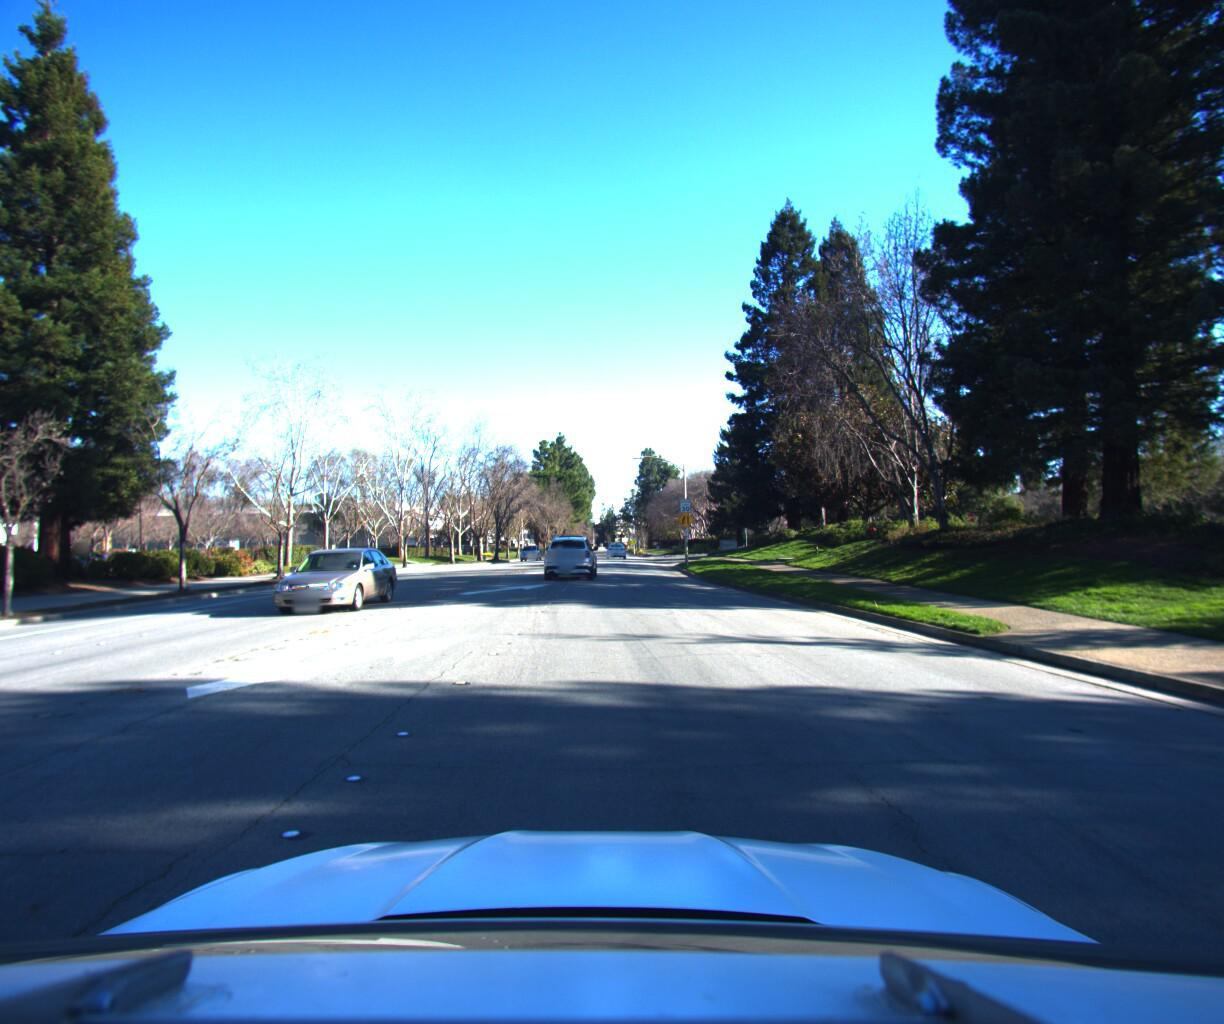car: (264, 541, 404, 612), (543, 527, 597, 575), (516, 539, 542, 555), (604, 534, 625, 552)
